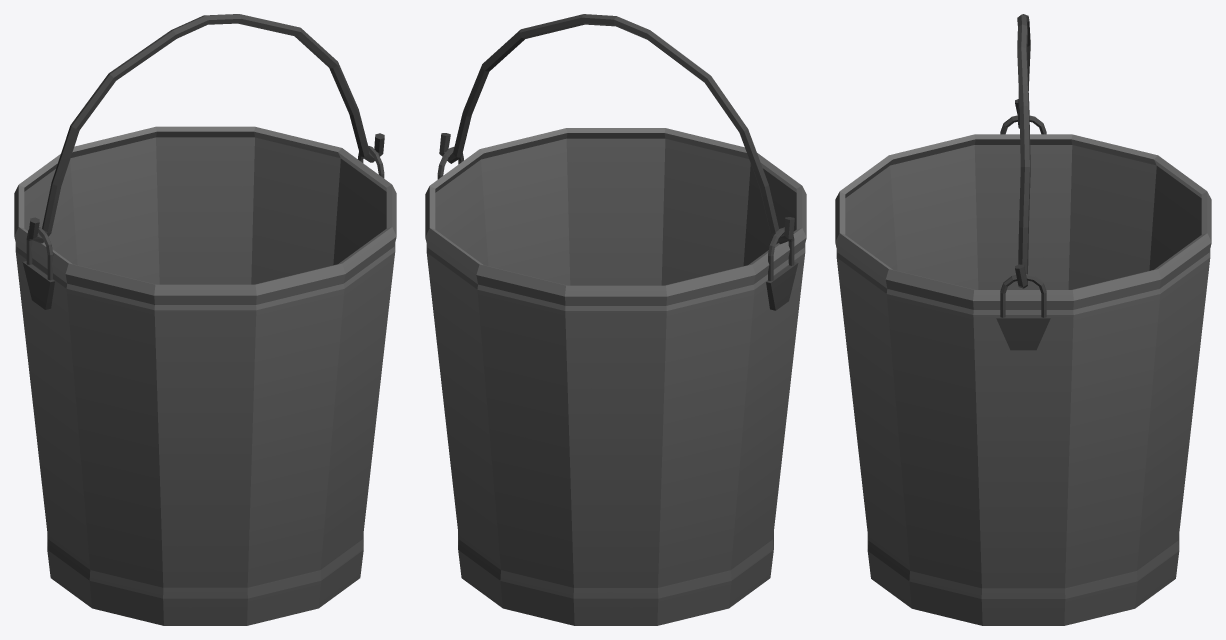
File: Prop_Bucket_02.obj
The picture shows the model from 3 angles, left to right: view 1: azimuth 30°, elevation 25°; view 2: azimuth 150°, elevation 25°; view 3: azimuth 270°, elevation 25°; orthographic projection.
Parts seen in each view (by area): view 1: Prop_Bucket_02, Prop_Bucket_Handle_02; view 2: Prop_Bucket_02, Prop_Bucket_Handle_02; view 3: Prop_Bucket_02, Prop_Bucket_Handle_02.
Part boxes in pixels (<box>): Prop_Bucket_02: <box>14,126,396,625</box>; Prop_Bucket_Handle_02: <box>28,14,384,243</box>; Prop_Bucket_02: <box>425,128,806,625</box>; Prop_Bucket_Handle_02: <box>439,14,794,244</box>; Prop_Bucket_02: <box>835,115,1211,625</box>; Prop_Bucket_Handle_02: <box>1015,14,1030,288</box>.
Size of the model in its own units: 0.3755 by 0.5522 by 0.3508.
1 material, 1 textured.
